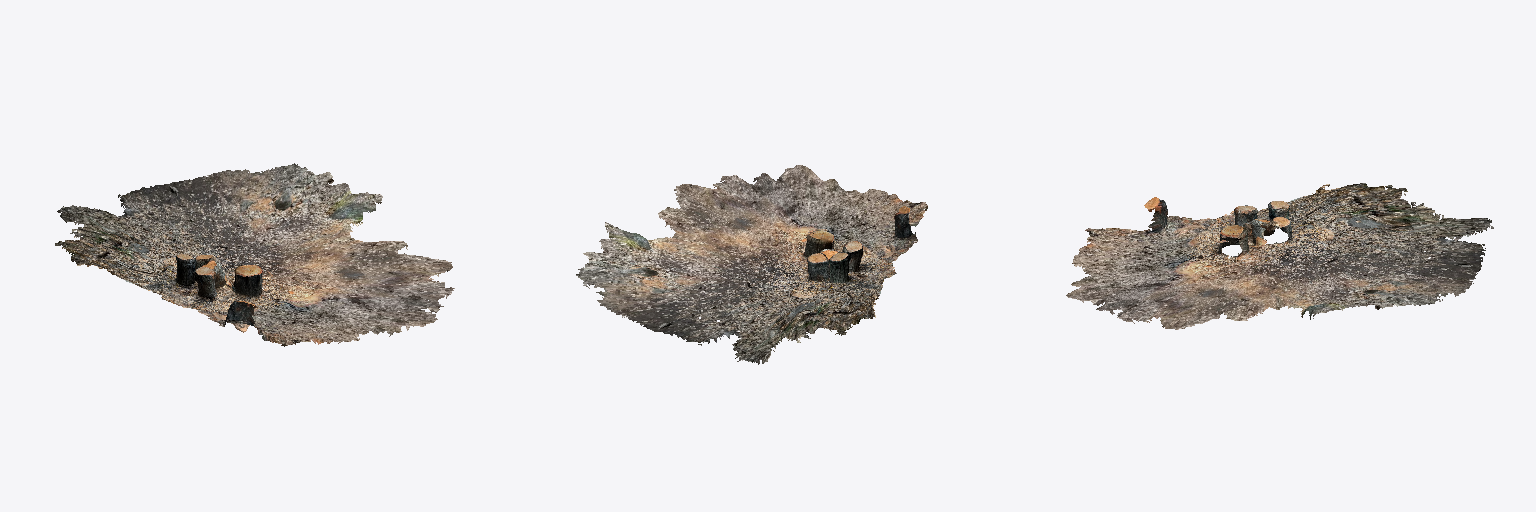
The picture shows the model from 3 angles: view 1: azimuth 30°, elevation 25°; view 2: azimuth 150°, elevation 25°; view 3: azimuth 270°, elevation 25°; orthographic projection.
Parts seen in each view (by area): view 1: mesh_0; view 2: mesh_0; view 3: mesh_0.
Part boxes in pixels (x1,y1,x2,y2): mesh_0: (55,163,454,346); mesh_0: (576,165,927,364); mesh_0: (1066,183,1493,329).
Bounding box in the file's own units: 5.75 × 0.7577 × 7.4.
1 materials, 1 textured.